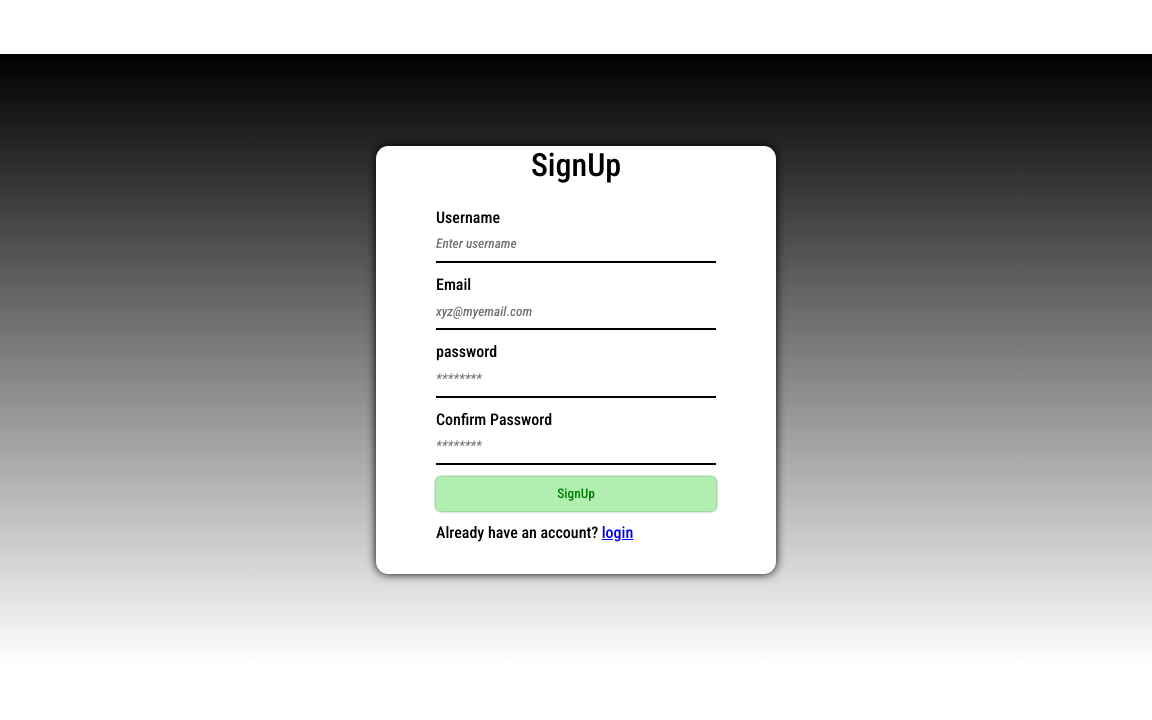
Test: Sign up form › Wrong Email submission
Type "testUser" into the field with placeholder "Enter username".
click(576, 245); type("testUser")  # box x1=436 y1=227 x2=716 y2=263
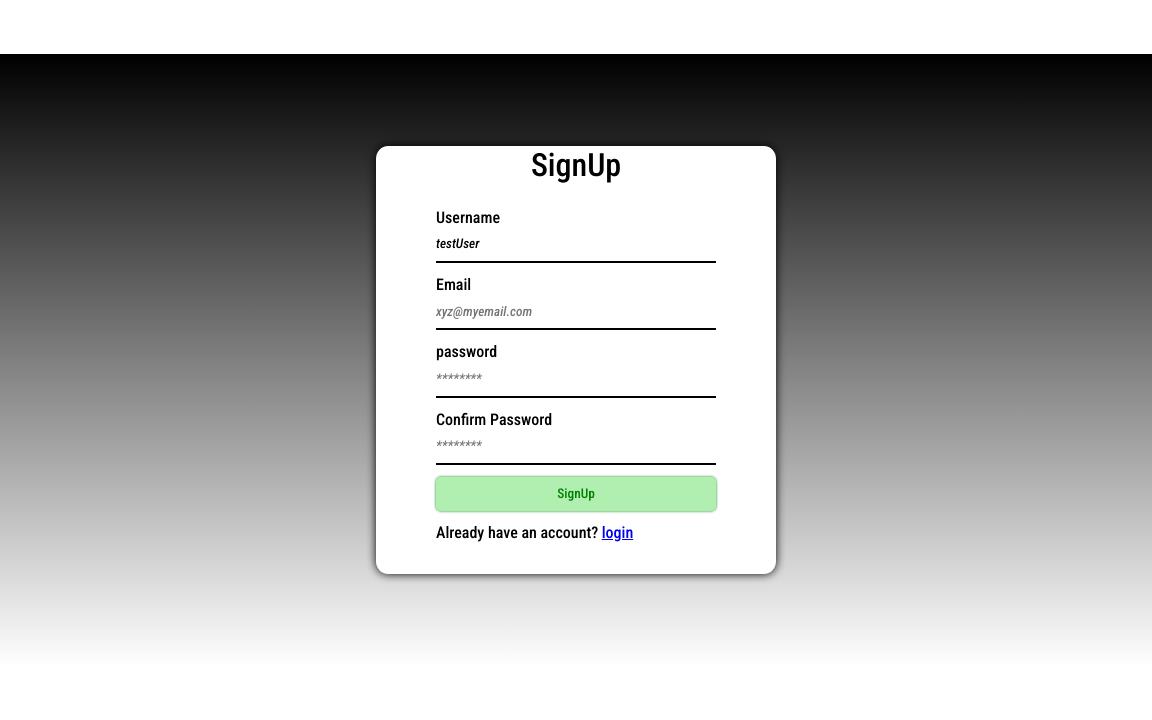
Type "xyztestuser" into the field with placeholder "xyz@myemail.com".
click(576, 312); type("xyztestuser")  # box x1=436 y1=294 x2=716 y2=330
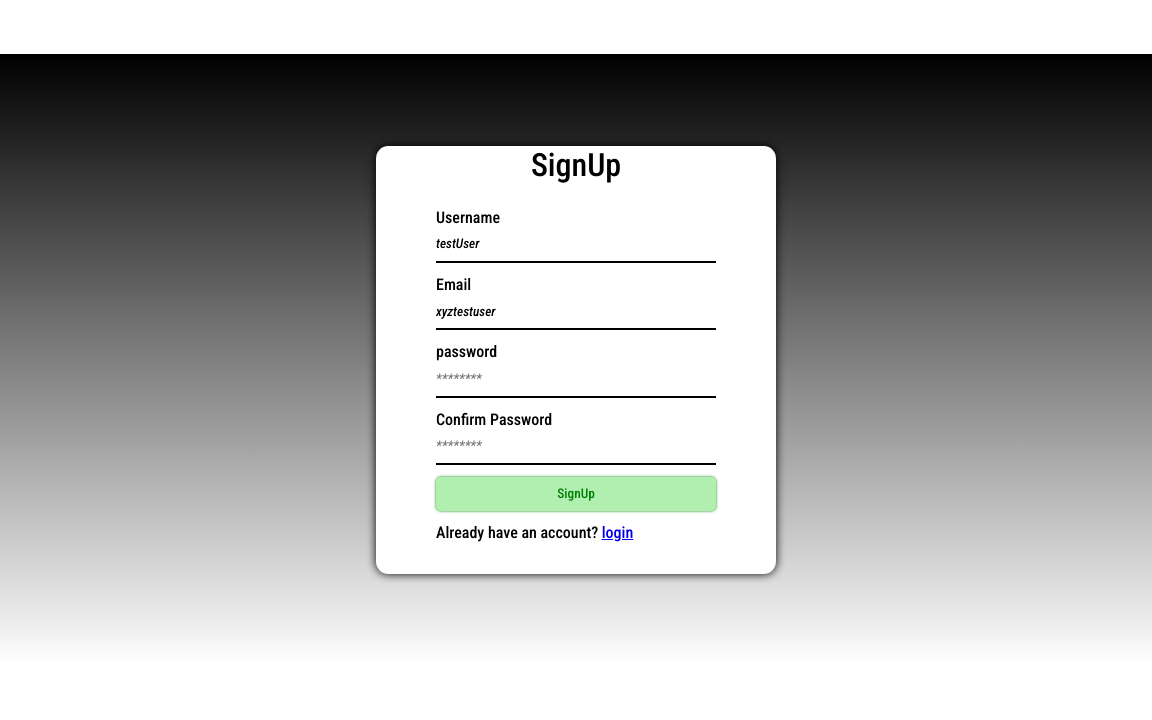
Type "testPassword123" into the 1st password field with placeholder "********".
click(576, 379); type("testPassword123")  # box x1=436 y1=361 x2=716 y2=398
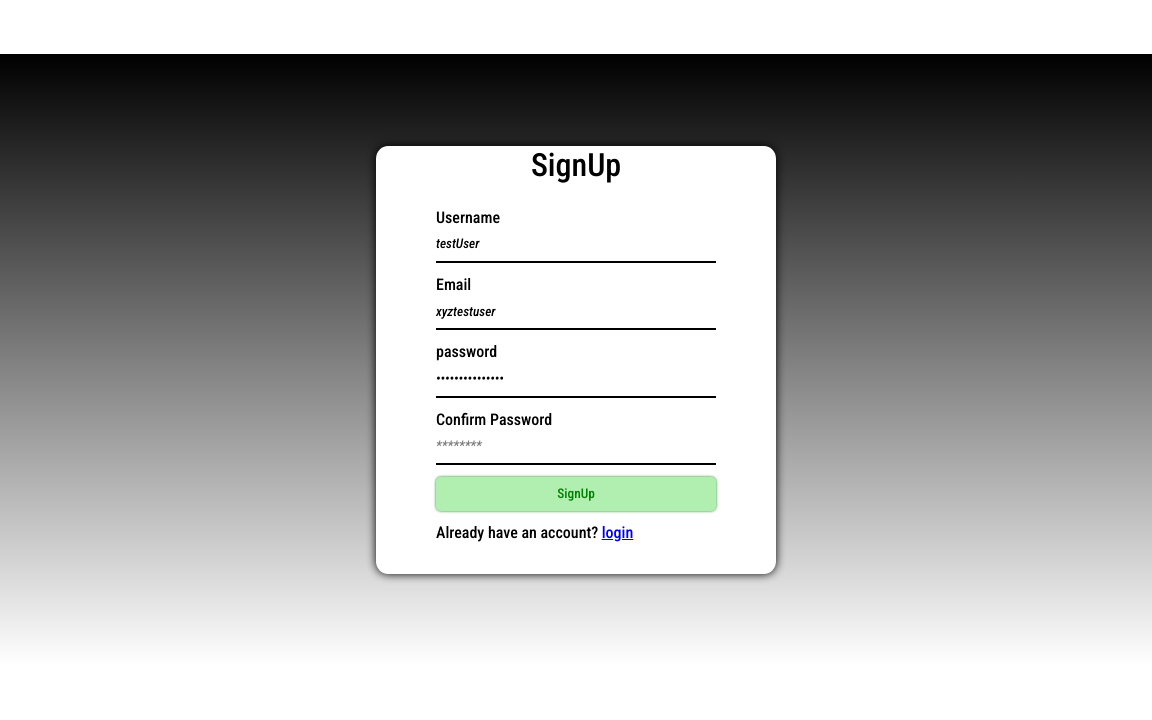
Type "testPassword123" into the password field with placeholder "********".
click(576, 447); type("testPassword123")  # box x1=436 y1=429 x2=716 y2=465
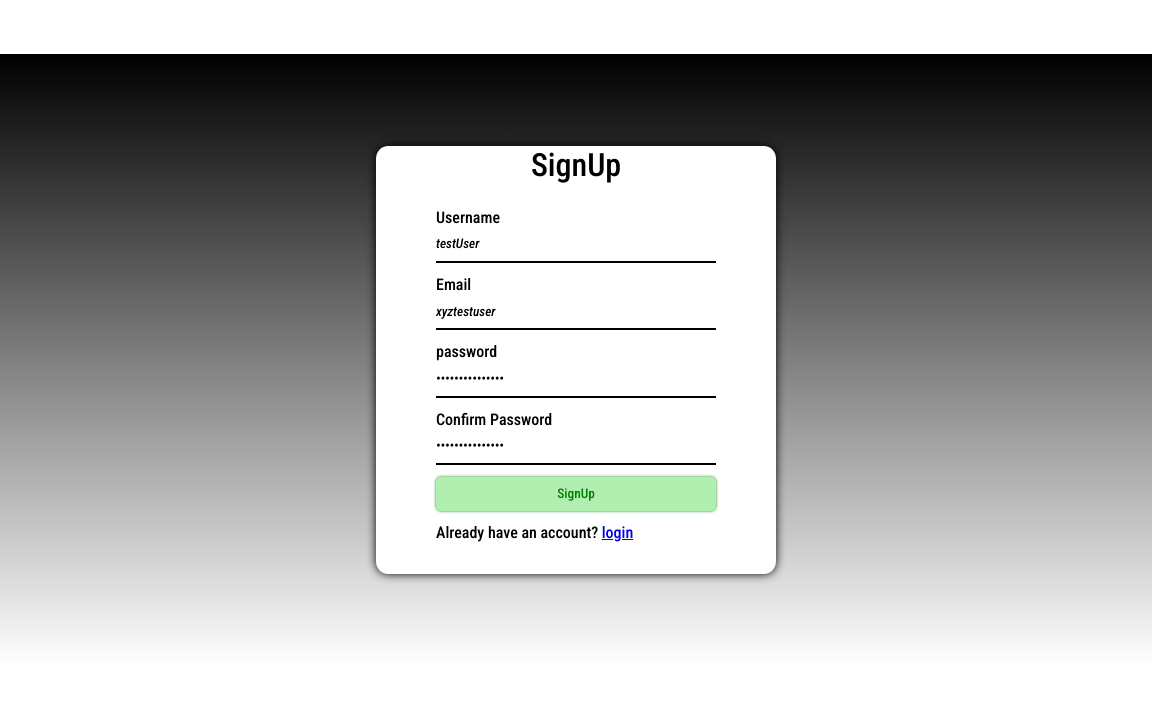
Click the button with aria-label "signUpSubmitButton".
click(576, 494)  # box x1=436 y1=477 x2=716 y2=511
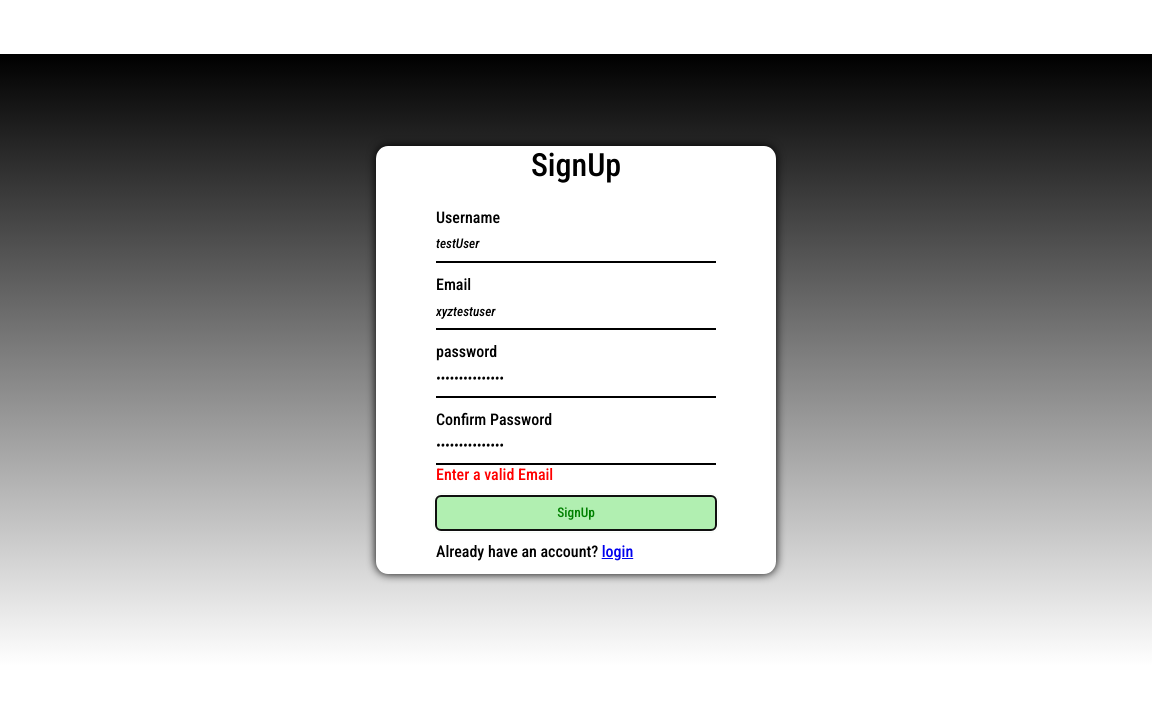
Expected: the text "Enter a valid Email" is shown, x1=436 y1=465 x2=553 y2=484
